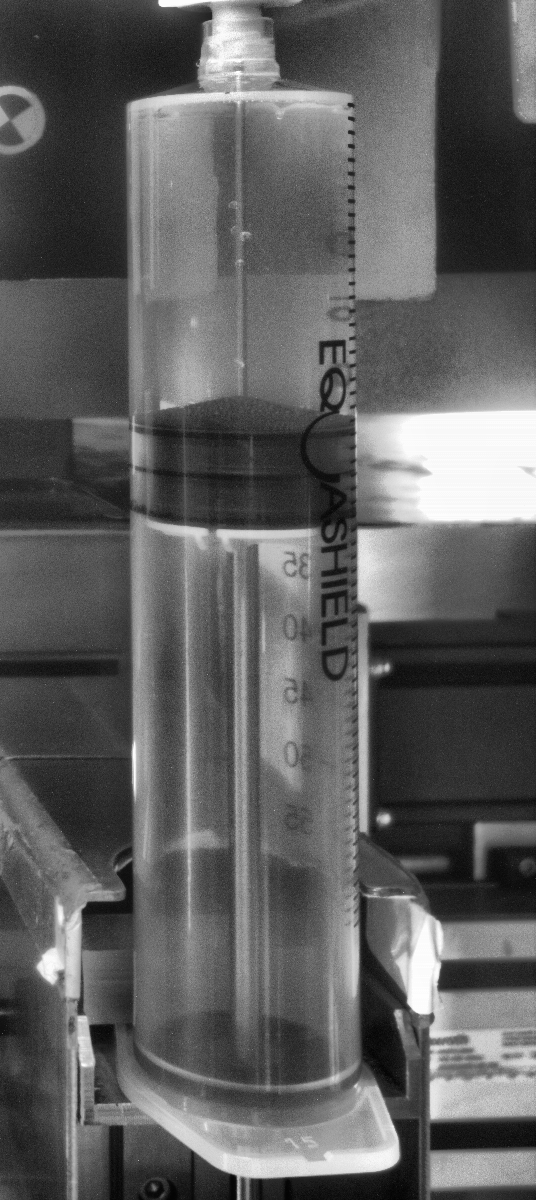piston: (128, 430, 359, 556)
